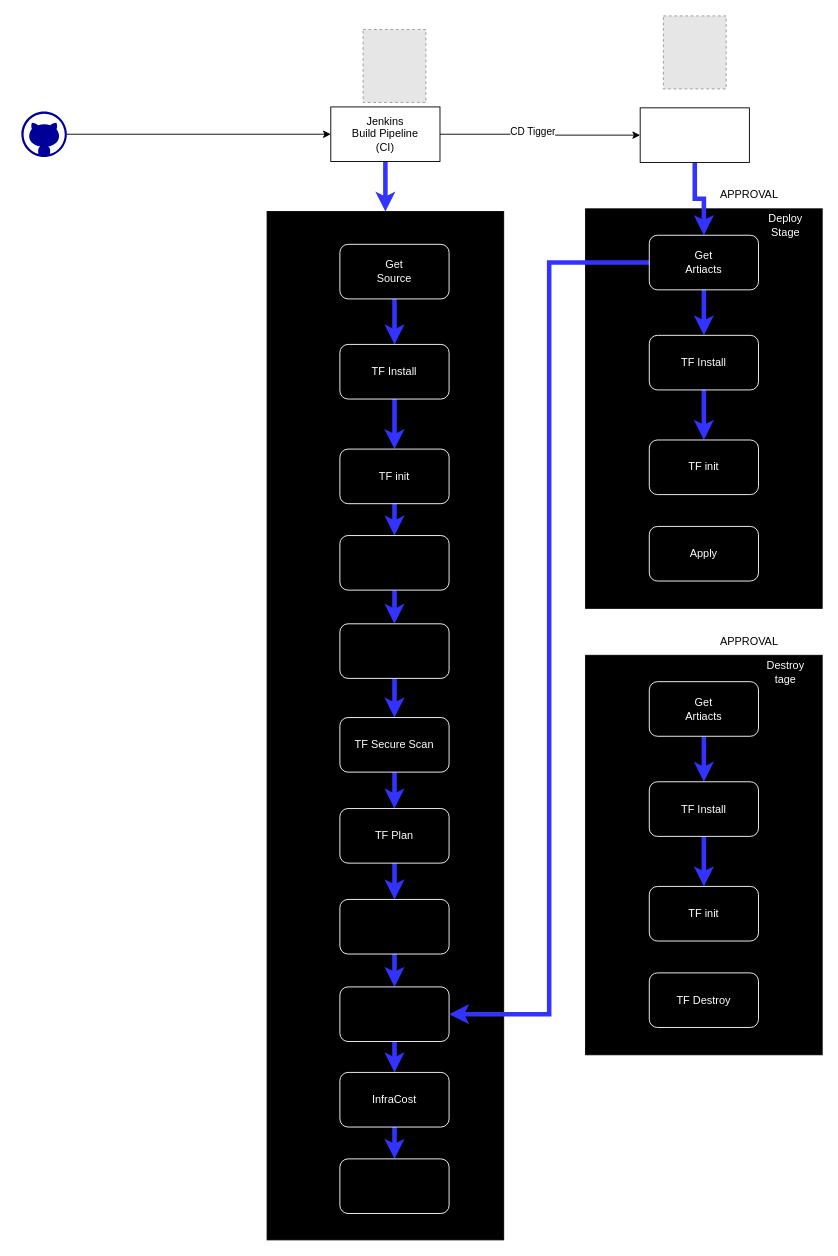
Image size: 838x1256. Some labels were removed from this diagram. Grey dashed boxes stand in for pictures. The centre of each missing label's shape, as x and y in pixels:
Application Code: the point at 43,134
Jenkins Release CD: the point at 694,134
Manual Approval with Artifacts: the point at 394,1185
TF Archive Artifacts: the point at 394,926
TF fmt: the point at 394,650
TF Publish Artifacts: the point at 394,1013
TF validate: the point at 394,562
